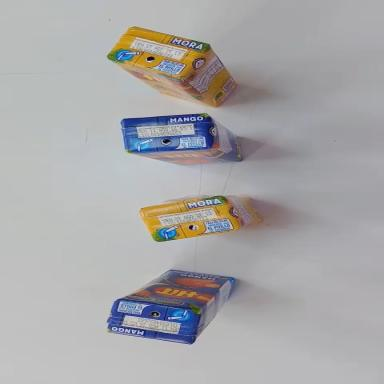HIT-MANGO: (106, 262, 235, 348), (122, 112, 242, 168)
HIT-MORA: (102, 22, 244, 112), (139, 188, 262, 244)
cara_F: (103, 58, 221, 110), (117, 263, 231, 314), (129, 146, 242, 168)
